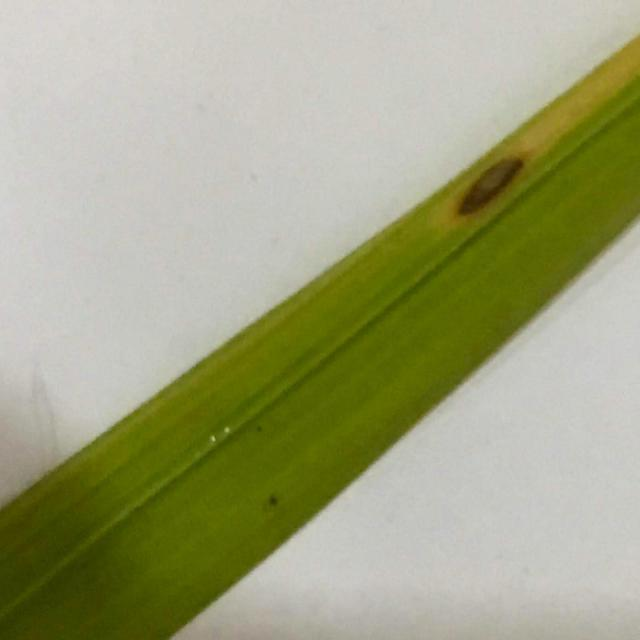Leaf_Blast: (464, 153, 519, 229)
